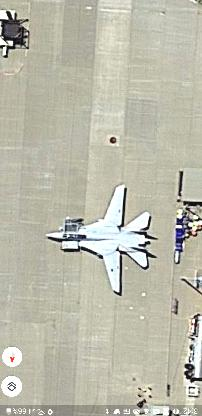EF2000: (46, 185, 152, 293)
